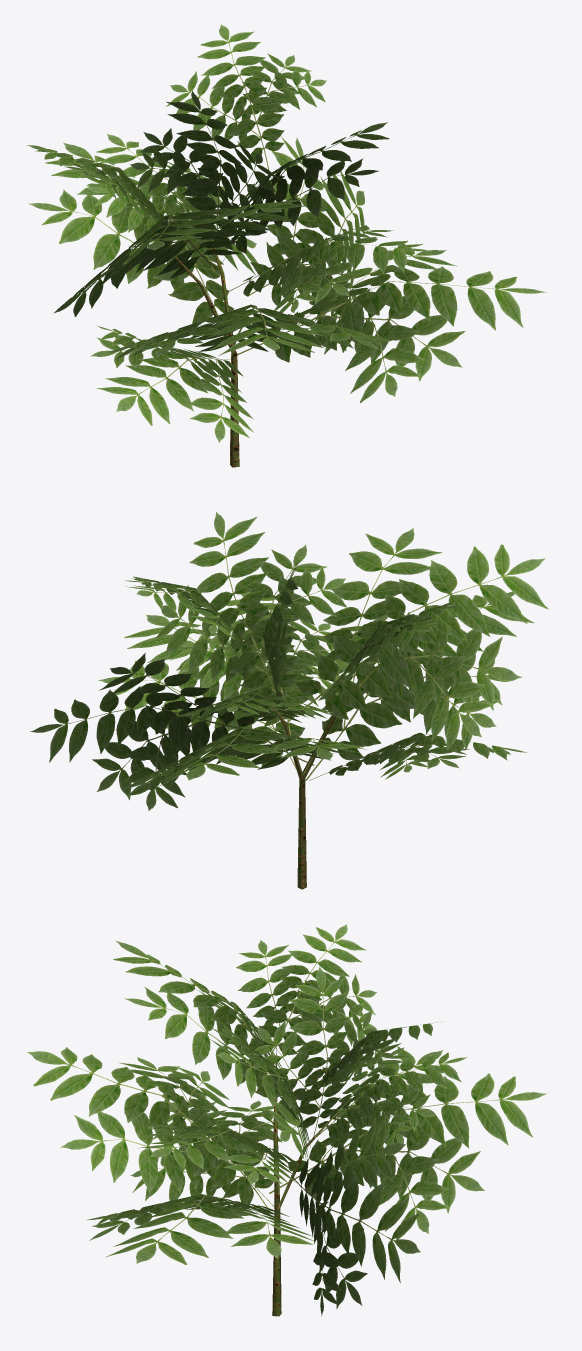
Rendered from bush01_lod01.FBX.
The picture shows the model from 3 angles, top to bottom: view 1: azimuth 30°, elevation 25°; view 2: azimuth 150°, elevation 25°; view 3: azimuth 270°, elevation 25°; orthographic projection. The views are drawn at different scales.
Parts seen in each view (by area): view 1: bush01_lod01; view 2: bush01_lod01; view 3: bush01_lod01.
Boxes of the visible parts, x1,y1,x2,y2 form: bush01_lod01: (26,24,546,467); bush01_lod01: (30,512,548,889); bush01_lod01: (27,924,547,1316).
Bounding box in the file's own units: 131 × 104 × 149.
Materials: 1 (1 with a texture image).
